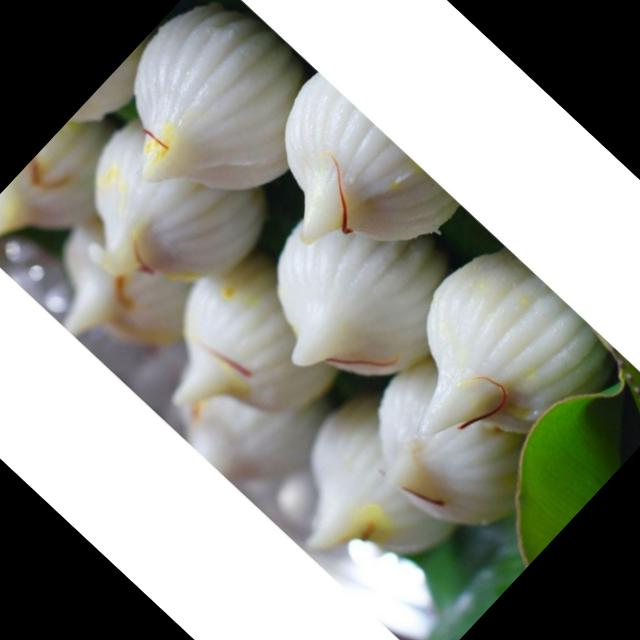modak: (369, 226, 638, 494), (226, 66, 475, 314), (80, 0, 337, 229), (316, 344, 558, 584), (244, 384, 485, 624), (54, 99, 274, 318), (146, 238, 364, 456), (230, 191, 448, 407)
